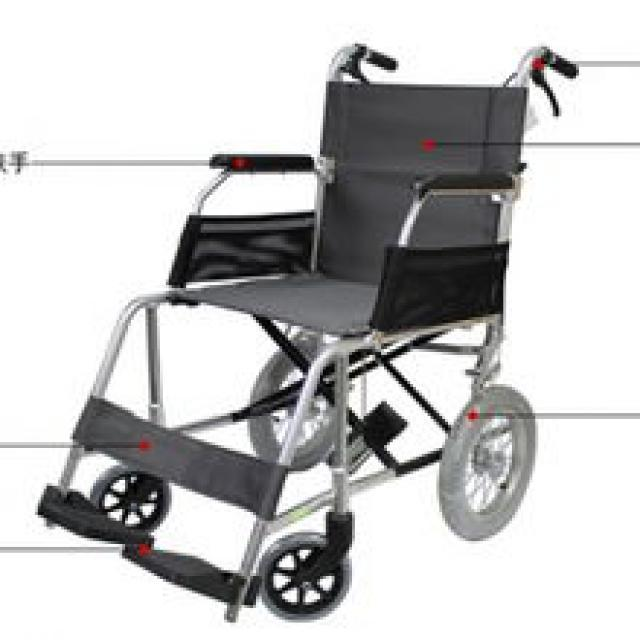wheelchair: (26, 34, 596, 628)
